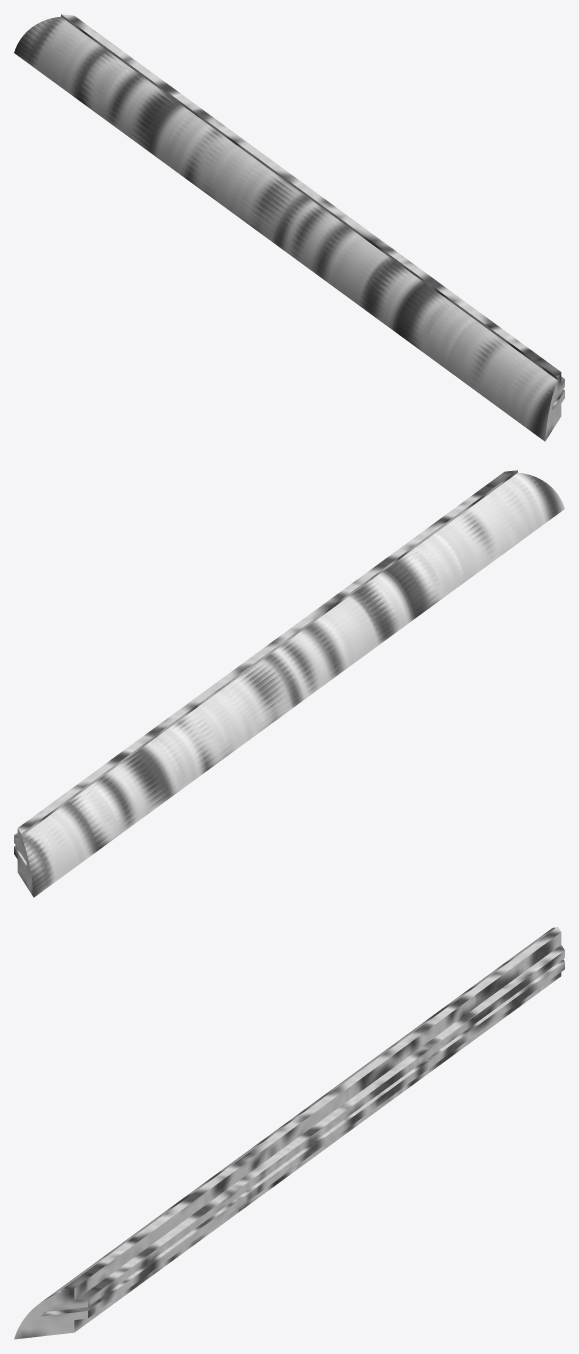
The model's file is original-31.obj.
The picture shows the model from 3 angles, top to bottom: view 1: azimuth 30°, elevation 25°; view 2: azimuth 150°, elevation 25°; view 3: azimuth 330°, elevation 25°; orthographic projection.
Visible parts, largest first — view 1: edge_short2/edge_short/mesh26/mesh26-geometry#mesh26-geometry; view 2: edge_short2/edge_short/mesh26/mesh26-geometry#mesh26-geometry; view 3: edge_short2/edge_short/mesh26/mesh26-geometry#mesh26-geometry.
Part boxes in pixels (bbox=[...]): edge_short2/edge_short/mesh26/mesh26-geometry#mesh26-geometry: bbox=[14, 14, 564, 441]; edge_short2/edge_short/mesh26/mesh26-geometry#mesh26-geometry: bbox=[14, 470, 564, 897]; edge_short2/edge_short/mesh26/mesh26-geometry#mesh26-geometry: bbox=[14, 926, 564, 1339].
Size of the model in its own units: 0.0395 by 0.0355 by 0.7747.
